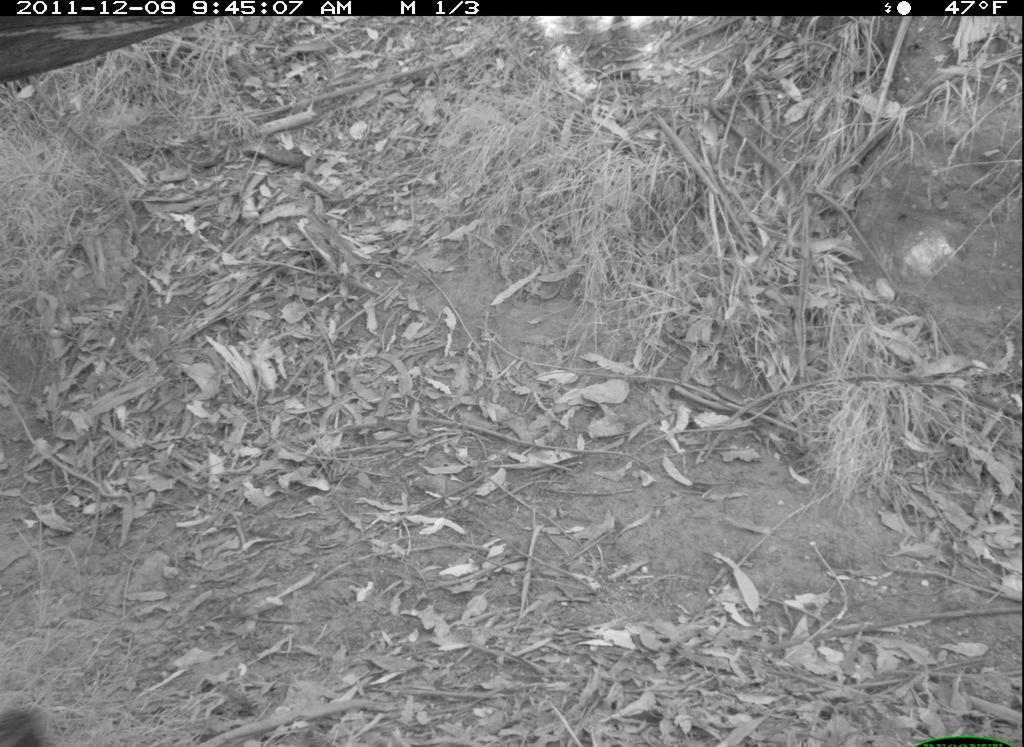bird: (1, 697, 61, 747)
